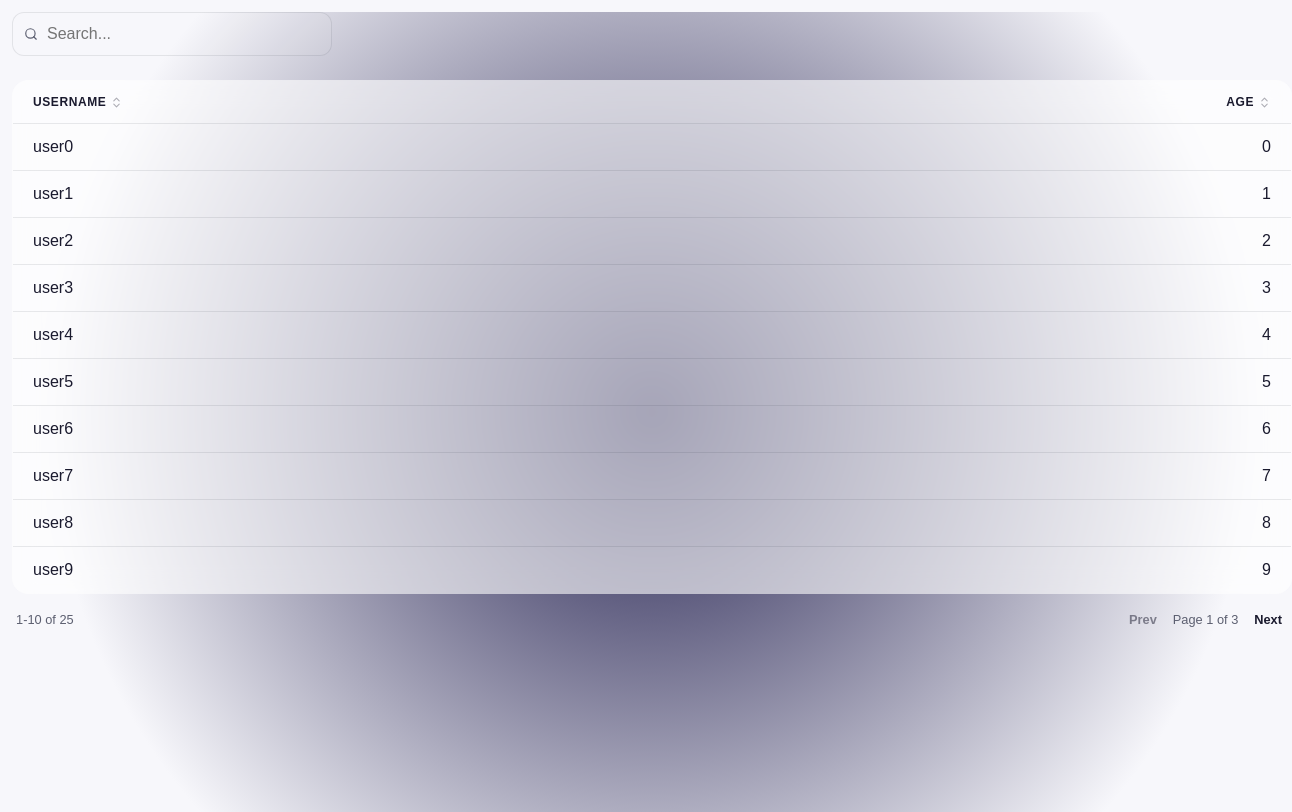
Test: DataTable › changing the search term resets to page 1
The image size is (1292, 812).
Click the button "Next" at x=1268, y=620, box [1248,606,1288,633]
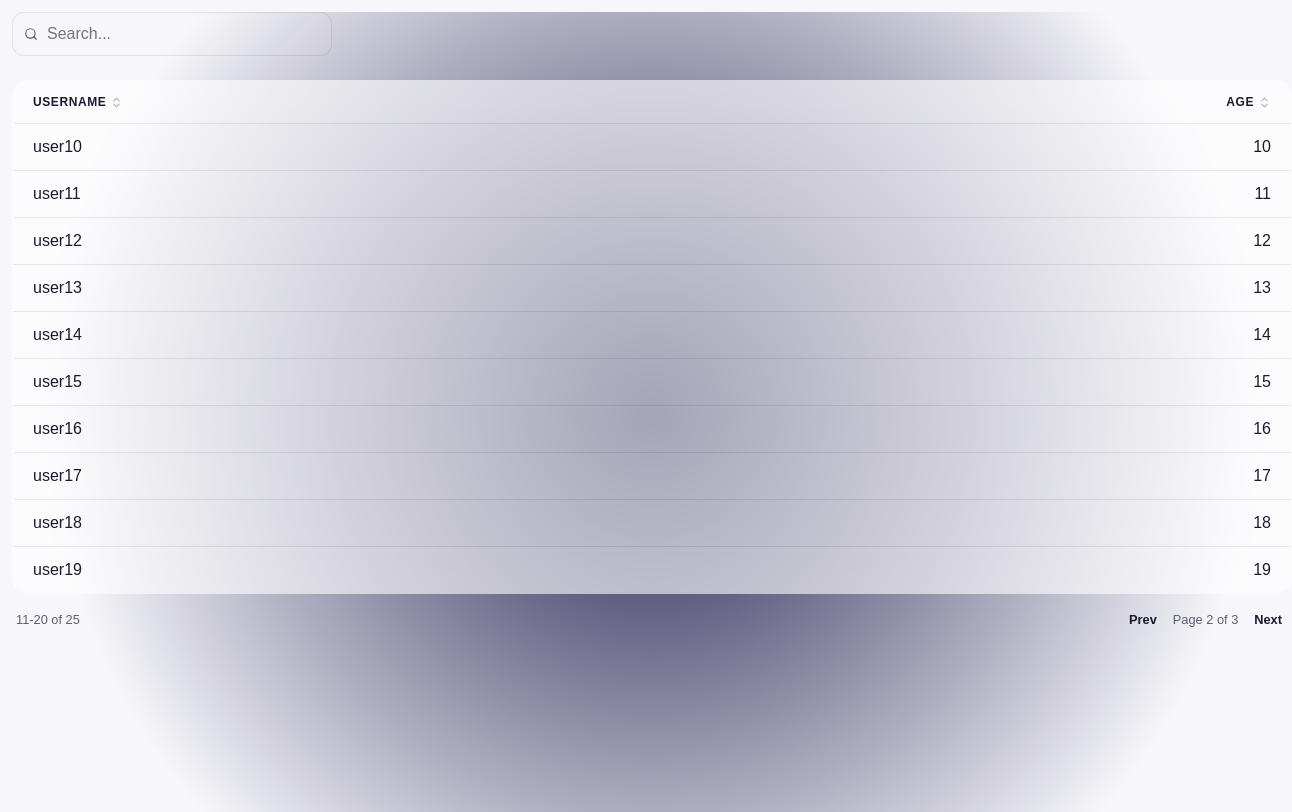
Expected: the text "Page 2 of 3" is shown, [1173,612,1238,627]
Type "user1" into the field with placeholder "Search..." at x=172, y=34, box [12,12,332,56]
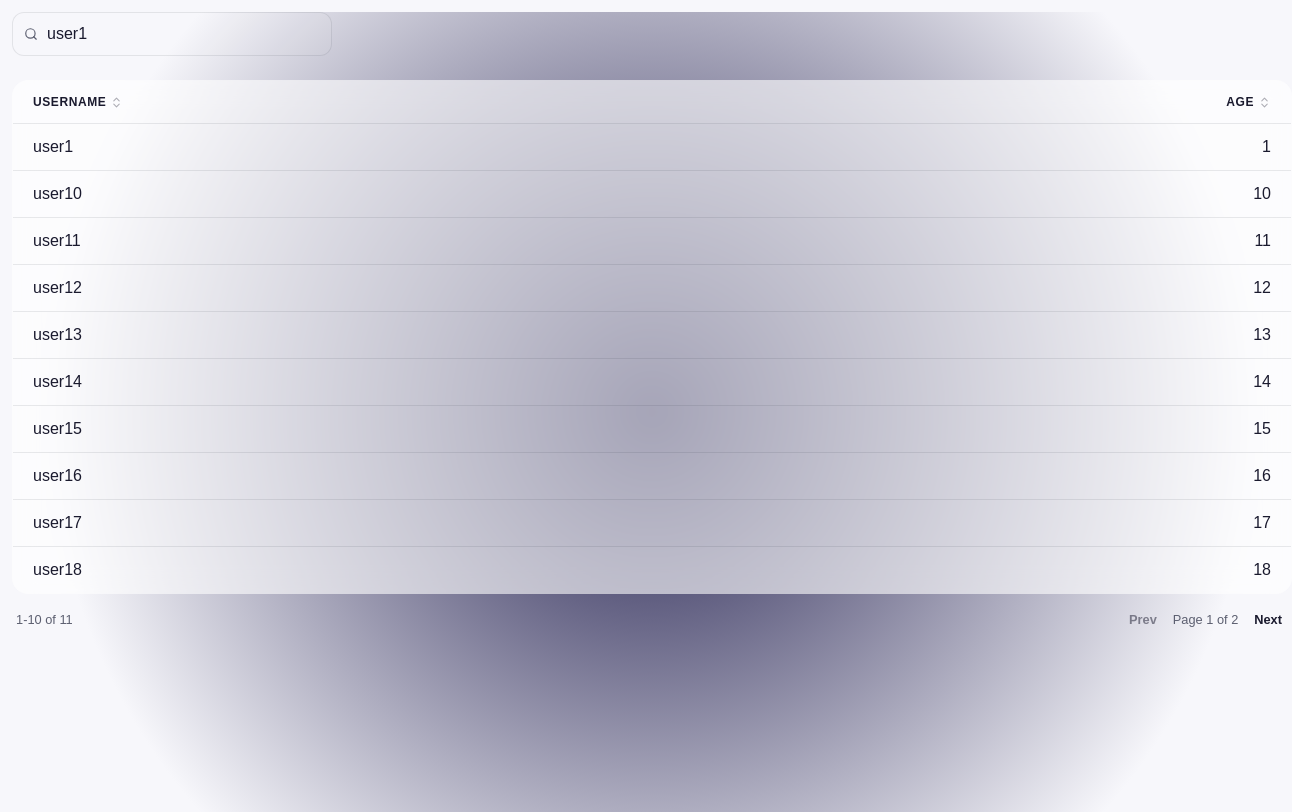
Expected: the text "Page 1 of 2" is shown, [1173,612,1238,627]
